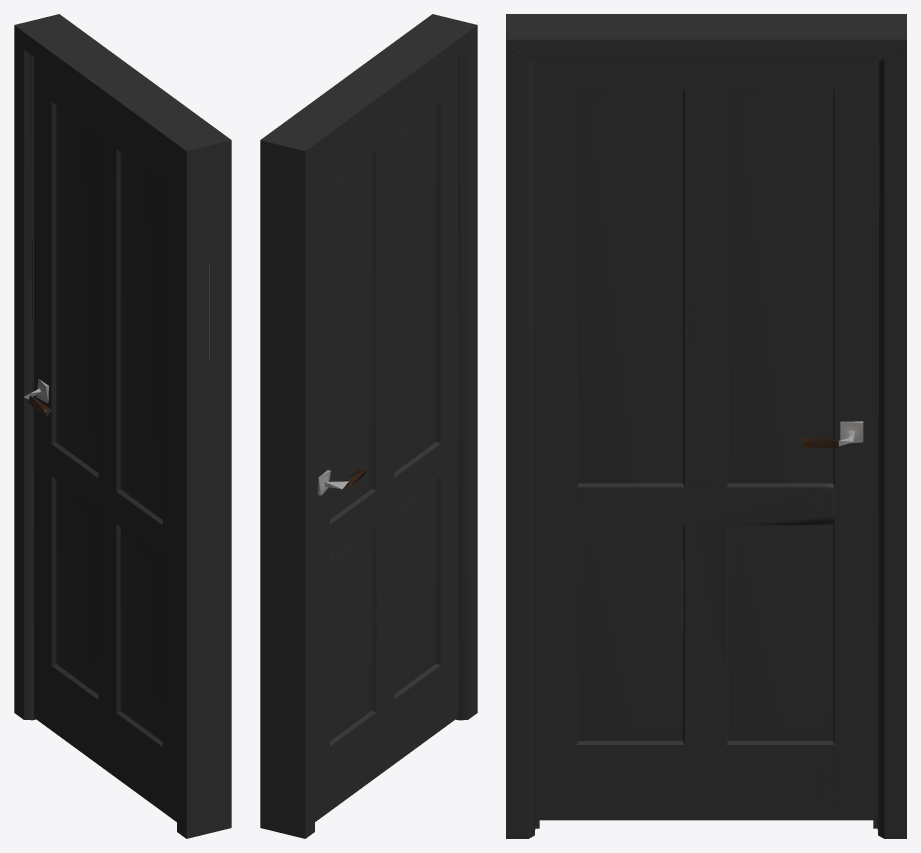
The model's file is Door0017.obj.
3 renders of one model, left to right at view 1: azimuth 30°, elevation 25°; view 2: azimuth 150°, elevation 25°; view 3: azimuth 270°, elevation 25°, orthographic. The views are drawn at different scales.
Bounding box in the file's own units: 0.198 × 2.12 × 0.964.
1 material, 1 textured.
